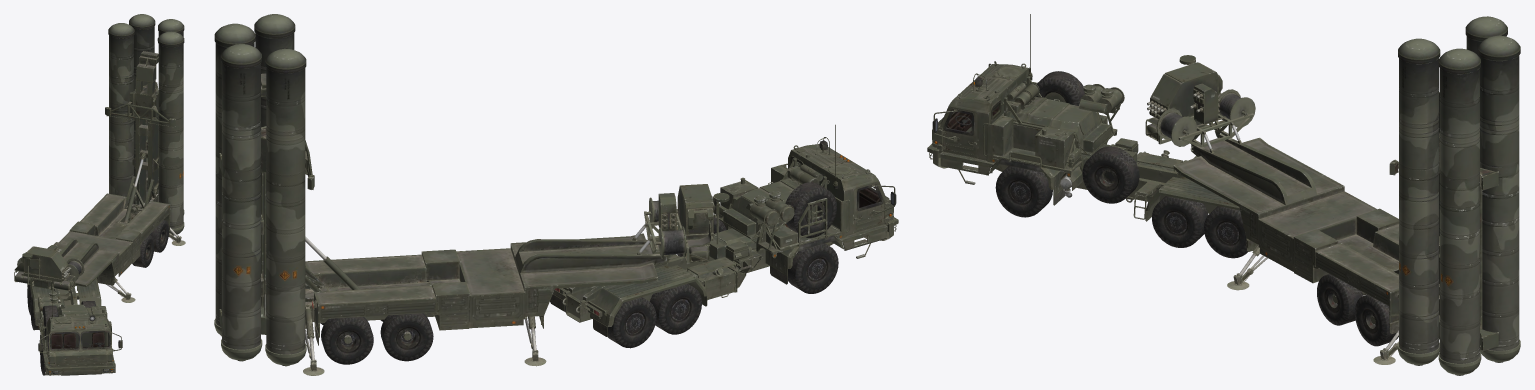
The picture shows the model from 3 angles, left to right: view 1: azimuth 30°, elevation 25°; view 2: azimuth 150°, elevation 25°; view 3: azimuth 270°, elevation 25°; orthographic projection. The views are drawn at different scales.
Visible parts, largest first — view 1: SM_S400_VarA_01_01_Rockets_4.001_0, SM_S400_VarA_01_01_Truck_1.001_2; view 2: SM_S400_VarA_01_01_Rockets_4.001_0, SM_S400_VarA_01_01_Truck_1.001_2; view 3: SM_S400_VarA_01_01_Rockets_4.001_0, SM_S400_VarA_01_01_Truck_1.001_2.
Boxes of the visible parts, x1,y1,x2,y2 form: SM_S400_VarA_01_01_Rockets_4.001_0: [14, 14, 185, 302]; SM_S400_VarA_01_01_Truck_1.001_2: [27, 278, 122, 375]; SM_S400_VarA_01_01_Rockets_4.001_0: [214, 14, 729, 375]; SM_S400_VarA_01_01_Truck_1.001_2: [550, 124, 898, 348]; SM_S400_VarA_01_01_Rockets_4.001_0: [1145, 16, 1520, 375]; SM_S400_VarA_01_01_Truck_1.001_2: [927, 14, 1247, 258].
Size of the model in its own units: 1328 by 876 by 1468.
Materials: 2 (2 with a texture image).
